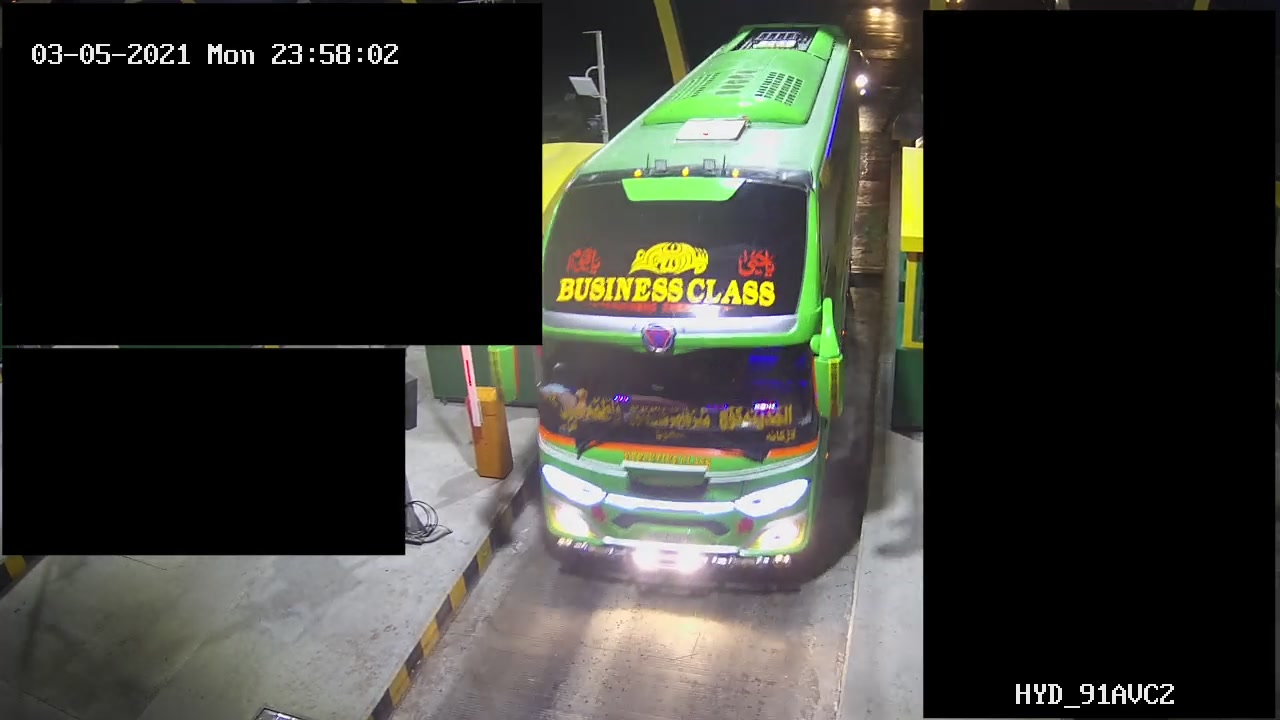F4: (542, 8, 876, 581)
